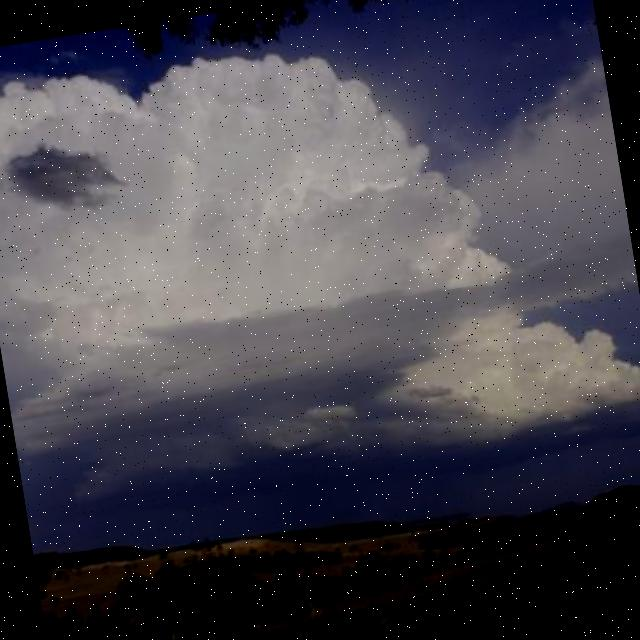Cb: (1, 1, 640, 475)
